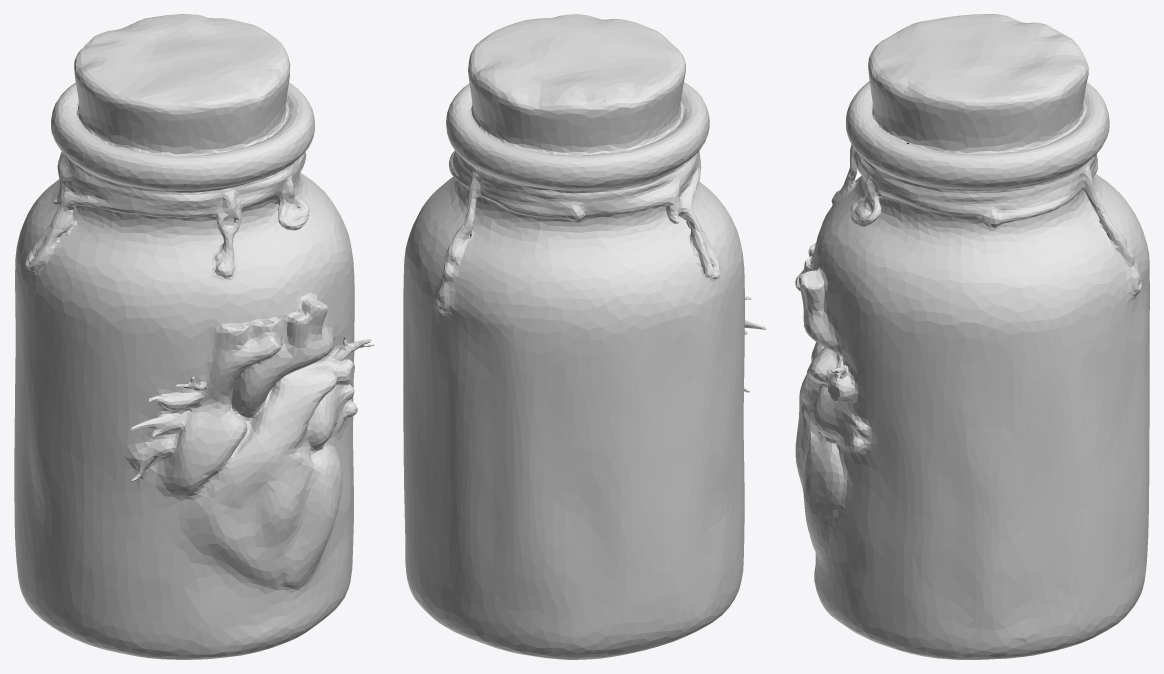
File: nec_heartjar01.glb
The picture shows the model from 3 angles, left to right: view 1: azimuth 30°, elevation 25°; view 2: azimuth 150°, elevation 25°; view 3: azimuth 270°, elevation 25°; orthographic projection.
Parts seen in each view (by area): view 1: Low; view 2: Low; view 3: Low.
Part boxes in pixels (x1=…): Low: x1=14, y1=14, x2=374, y2=659; Low: x1=403, y1=14, x2=766, y2=659; Low: x1=795, y1=14, x2=1149, y2=659.
Bounding box in the file's own units: 1.15 × 1.99 × 1.17.
Materials: 1 (1 with a texture image).
